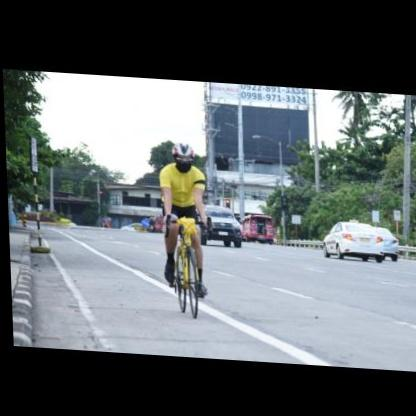Bicycle: (151, 202, 221, 324)
